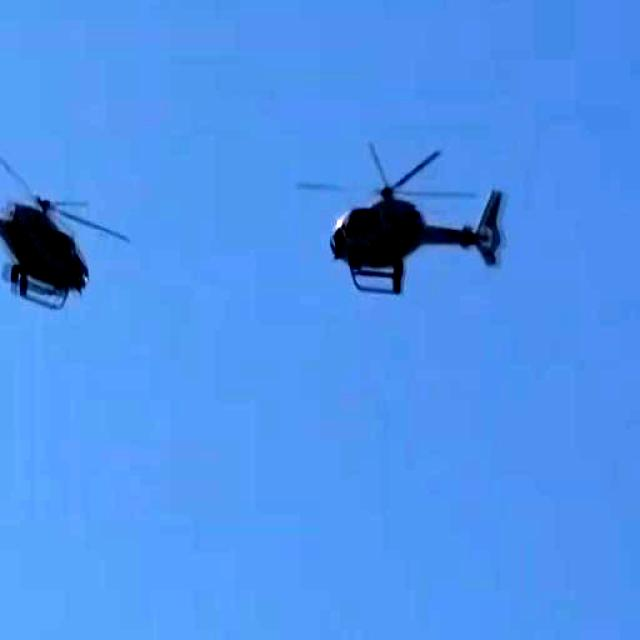drone: (330, 119, 509, 310), (0, 129, 125, 318)
